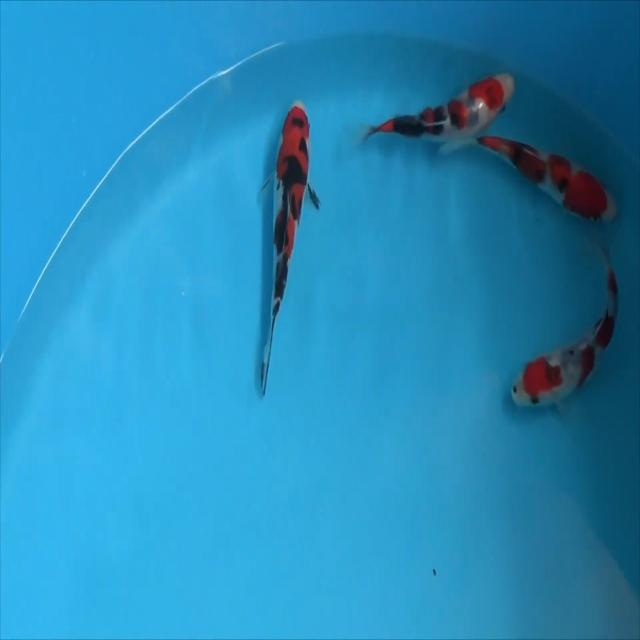Sanke: (259, 101, 320, 396), (510, 251, 619, 411), (475, 133, 618, 225), (363, 70, 515, 153)
